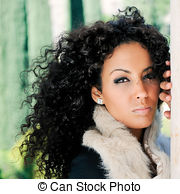face: (84, 26, 168, 138)
